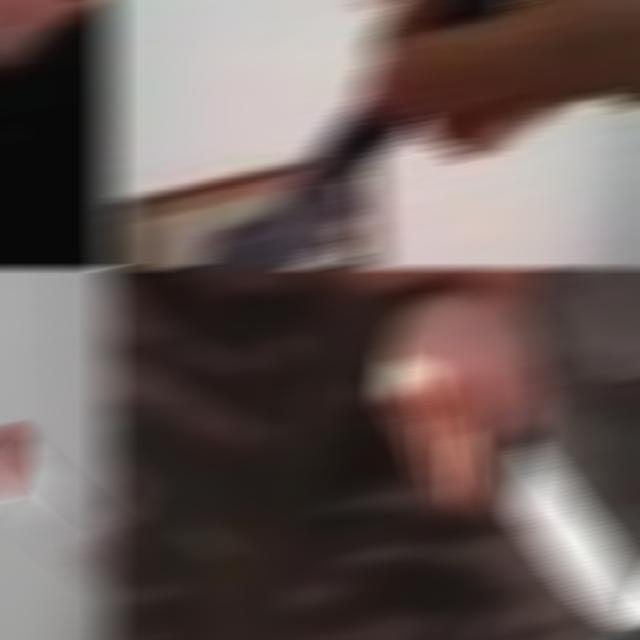Knife: (494, 414, 640, 630), (0, 427, 116, 589)
Knife_Handle: (100, 1, 640, 267), (374, 302, 640, 639), (0, 1, 116, 242)
